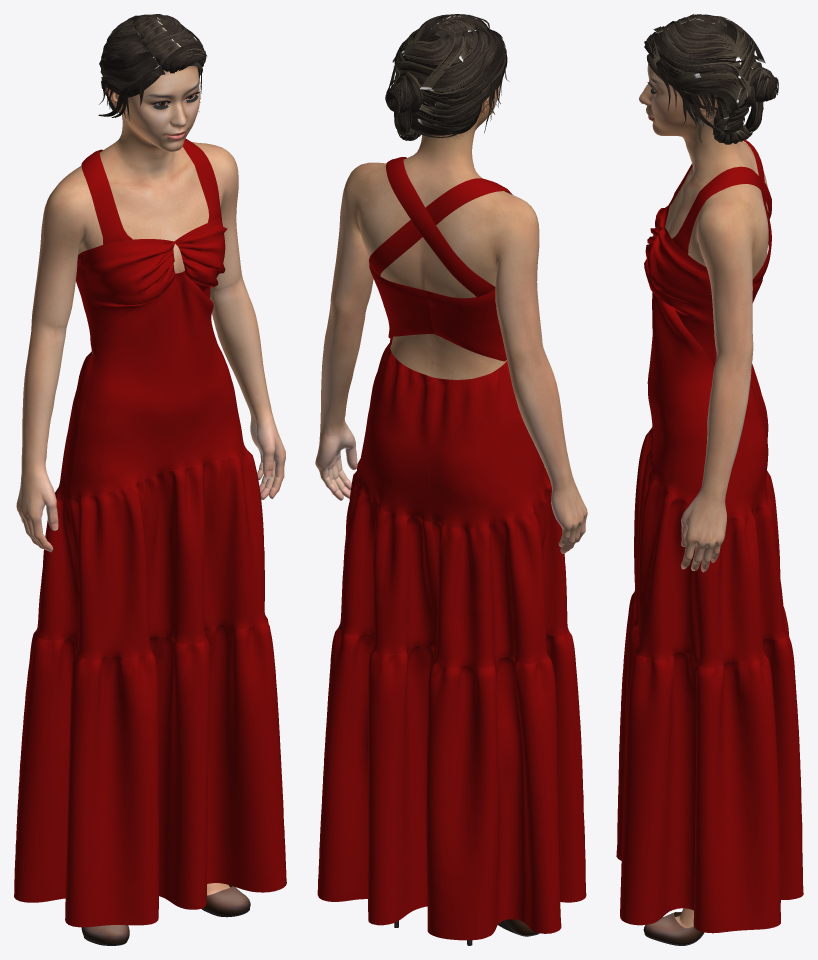
The model's file is red_cross-halter_dress.glb.
The picture shows the model from 3 angles, left to right: view 1: azimuth 30°, elevation 25°; view 2: azimuth 150°, elevation 25°; view 3: azimuth 270°, elevation 25°; orthographic projection.
Visible parts, largest first — view 1: ClothPiece_7, Sub_0, ClothPiece_8, ClothPiece_3, Sub_1, ClothPiece_1, ClothPiece_2, ClothPiece_5, Sub_2, ClothPiece_4, ClothPiece_6, ClothPiece_11; view 2: ClothPiece_7, Sub_0, ClothPiece_8, ClothPiece_4, Sub_1, ClothPiece_0, ClothPiece_11, ClothPiece_6, ClothPiece_5, ClothPiece_12; view 3: ClothPiece_7, Sub_0, ClothPiece_8, Sub_1, ClothPiece_3, ClothPiece_2, ClothPiece_0, ClothPiece_6, Sub_2, ClothPiece_5, ClothPiece_1.
Part boxes in pixels (box(x1,y1,x2,y2)): ClothPiece_7: box(14, 615, 286, 927); Sub_0: box(16, 66, 285, 895); ClothPiece_8: box(36, 450, 266, 660); ClothPiece_3: box(69, 271, 247, 499); Sub_1: box(98, 14, 207, 122); ClothPiece_1: box(80, 239, 175, 353); ClothPiece_2: box(174, 217, 227, 298); ClothPiece_5: box(81, 149, 132, 244); Sub_2: box(81, 885, 250, 945); ClothPiece_4: box(56, 351, 93, 498); ClothPiece_6: box(183, 138, 221, 222); ClothPiece_11: box(76, 254, 94, 353); ClothPiece_7: box(317, 627, 586, 940); Sub_0: box(315, 85, 587, 553); ClothPiece_8: box(338, 459, 568, 668); ClothPiece_4: box(429, 361, 540, 527); Sub_1: box(385, 14, 509, 140); ClothPiece_0: box(355, 342, 437, 521); ClothPiece_11: box(426, 289, 506, 361); ClothPiece_6: box(385, 157, 495, 296); ClothPiece_5: box(369, 178, 512, 276); ClothPiece_12: box(369, 264, 434, 338); ClothPiece_7: box(616, 592, 803, 933); Sub_0: box(639, 60, 768, 927); ClothPiece_8: box(634, 430, 786, 667); Sub_1: box(644, 14, 778, 144); ClothPiece_3: box(647, 292, 714, 503); ClothPiece_2: box(644, 227, 715, 366); ClothPiece_0: box(725, 369, 769, 518); ClothPiece_6: box(672, 166, 771, 254); Sub_2: box(643, 912, 704, 945); ClothPiece_5: box(671, 139, 771, 283); ClothPiece_1: box(645, 196, 675, 257).
Size of the model in its own units: 0.5192 by 1.72 by 0.3266.
42 materials, 42 textured.
